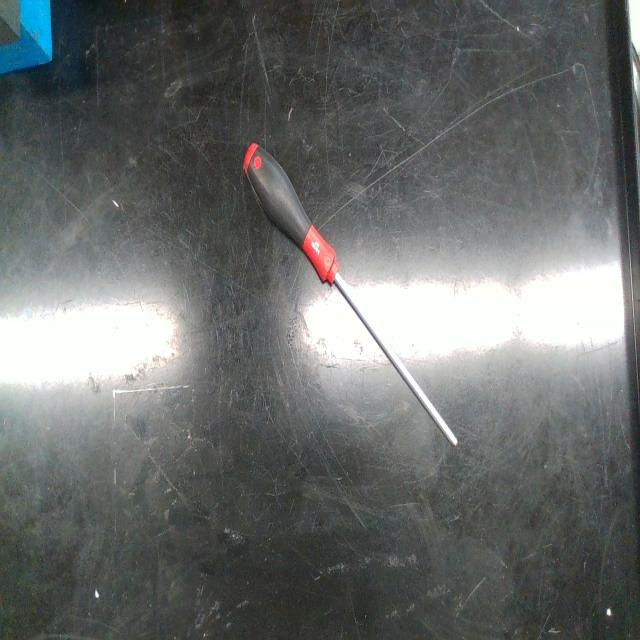Screwdriver: (244, 142, 458, 447)
